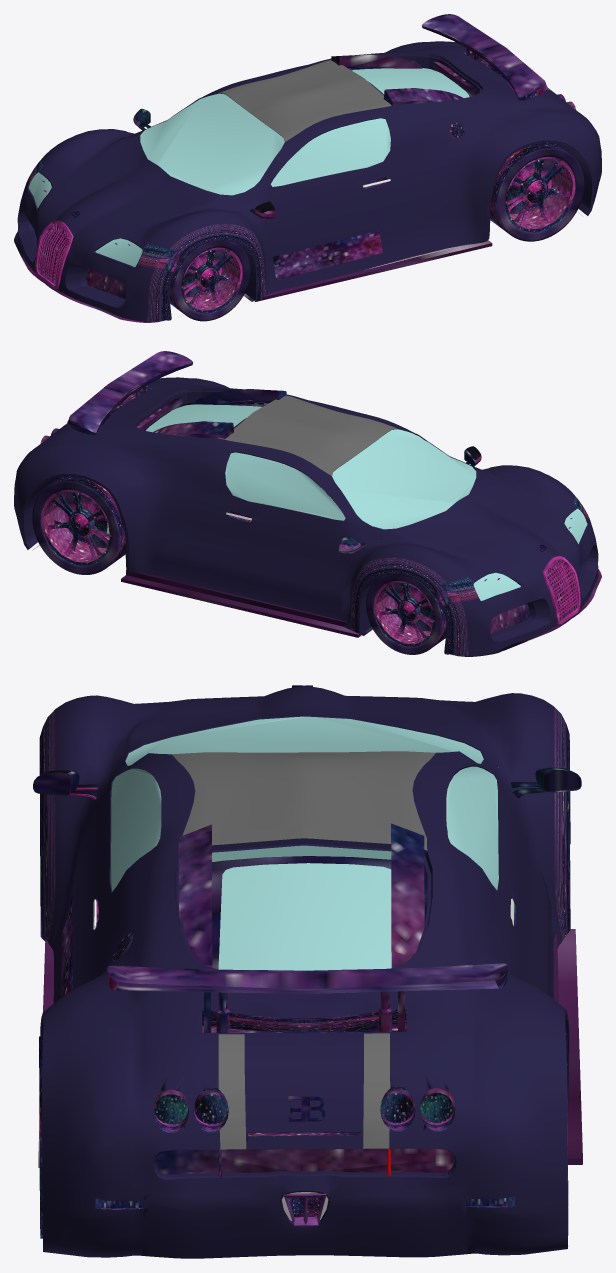
The model's file is race_car_8dd45092.glb.
3 renders of one model, top to bottom at view 1: azimuth 30°, elevation 25°; view 2: azimuth 150°, elevation 25°; view 3: azimuth 270°, elevation 25°, orthographic. The views are drawn at different scales.
Visible parts, largest first — view 1: Bugatti-Veyron_Material #142_0, Bugatti-Veyron_Material #149_0, Bugatti-Veyron_Material #148_0, rem_Material #146_0, Bugatti-Veyron_Material #143_0, rem03_Material #146_0; view 2: Bugatti-Veyron_Material #142_0, Bugatti-Veyron_Material #149_0, Bugatti-Veyron_Material #148_0, rem01_Material #146_0, Bugatti-Veyron_Material #143_0, rem02_Material #146_0; view 3: Bugatti-Veyron_Material #142_0, Bugatti-Veyron_Material #148_0, Bugatti-Veyron_Material #149_0, Bugatti-Veyron_Material #143_0.
Boxes of the visible parts, x1=… form: Bugatti-Veyron_Material #142_0: x1=17, y1=41, x2=601, y2=321; Bugatti-Veyron_Material #149_0: x1=29, y1=68, x2=469, y2=266; Bugatti-Veyron_Material #148_0: x1=14, y1=14, x2=575, y2=322; rem_Material #146_0: x1=490, y1=142, x2=584, y2=241; Bugatti-Veyron_Material #143_0: x1=219, y1=60, x2=555, y2=141; rem03_Material #146_0: x1=169, y1=241, x2=250, y2=321; Bugatti-Veyron_Material #142_0: x1=14, y1=377, x2=598, y2=656; Bugatti-Veyron_Material #149_0: x1=146, y1=404, x2=587, y2=600; Bugatti-Veyron_Material #148_0: x1=40, y1=351, x2=601, y2=656; rem01_Material #146_0: x1=32, y1=476, x2=125, y2=574; Bugatti-Veyron_Material #143_0: x1=62, y1=395, x2=397, y2=475; rem02_Material #146_0: x1=366, y1=574, x2=446, y2=654; Bugatti-Veyron_Material #142_0: x1=39, y1=686, x2=570, y2=1258; Bugatti-Veyron_Material #148_0: x1=33, y1=685, x2=582, y2=1225; Bugatti-Veyron_Material #149_0: x1=110, y1=716, x2=498, y2=970; Bugatti-Veyron_Material #143_0: x1=172, y1=751, x2=435, y2=1149.
Size of the model in its own units: 1023 by 286 by 479.
Materials: 14 (7 with a texture image).
